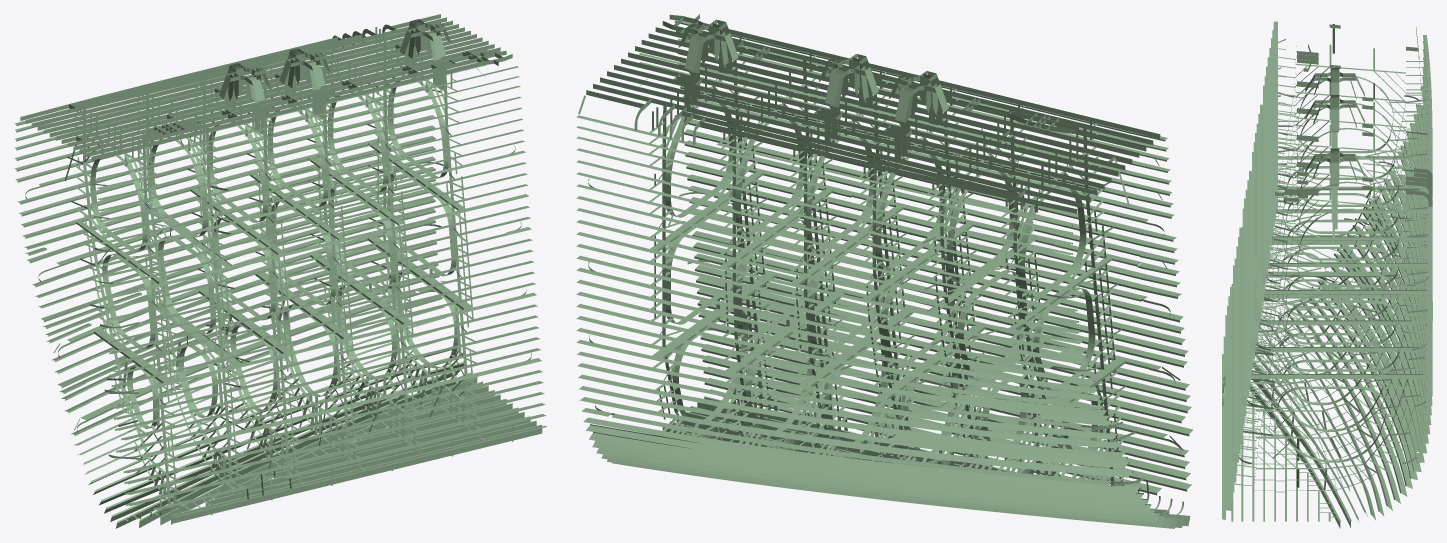
Rendered from NO_5_WING_CARGO_OIL_TK_PS.glb.
3 views of the same model, side by side, from view 1: azimuth 30°, elevation 25°; view 2: azimuth 150°, elevation 25°; view 3: azimuth 270°, elevation 25° (orthographic). The views are drawn at different scales.
Visible parts, largest first — view 1: no part large enough to name; view 2: ST_OuterShellxNo5SideTankPxL34xWeb_003004-IA_667.5x150x12.5x, ST_OuterShellxNo5SideTankPxL36xWeb_003004-IA_675.5x150x12.5x, ST_OuterShellxNo5SideTankPxL33xWeb_003004-TW_645x12.5+150x24, ST_OuterShellxNo5SideTankPxL32xWeb_001001-TW_595x12.5+150x31; view 3: ST_SideTransxFR58PxWeb_215002-TW_795x21+180x31_NVA_1993, ST_SideTransxFR56PxWeb_201002-TW_795x21+180x31_NVA_1993, ST_SideTransxFR57PxWeb_073002-TW_795x21+180x31_NVA_1993, ST_SideTransxFR58PxWeb_246002-TW_595x12.5+150x23_NVA_1993, ST_SideTransxFR58PxWeb_215001-TW_795x21+180x31_NVA_1993, ST_SideTransxFR57PxWeb_109002-TW_595x12.5+150x20_NVA_1993, ST_SideTransxFR57PxWeb_073001-TW_795x21+180x31_NVA_1993, ST_SideTransxFR56PxWeb_119002-TW_595x12.5+150x16_NVA_1993.
Part boxes in pixels (<box>): ST_OuterShellxNo5SideTankPxL34xWeb_003004-IA_667.5x150x12.5x: <box>992,475,1094,490</box>; ST_OuterShellxNo5SideTankPxL36xWeb_003004-IA_675.5x150x12.5x: <box>985,459,1087,473</box>; ST_OuterShellxNo5SideTankPxL33xWeb_003004-TW_645x12.5+150x24: <box>996,482,1097,497</box>; ST_OuterShellxNo5SideTankPxL32xWeb_001001-TW_595x12.5+150x31: <box>616,437,705,457</box>; ST_SideTransxFR58PxWeb_215002-TW_795x21+180x31_NVA_1993: <box>1332,348,1419,352</box>; ST_SideTransxFR56PxWeb_201002-TW_795x21+180x31_NVA_1993: <box>1317,294,1403,298</box>; ST_SideTransxFR57PxWeb_073002-TW_795x21+180x31_NVA_1993: <box>1332,321,1412,325</box>; ST_SideTransxFR58PxWeb_246002-TW_595x12.5+150x23_NVA_1993: <box>1332,264,1426,267</box>; ST_SideTransxFR58PxWeb_215001-TW_795x21+180x31_NVA_1993: <box>1255,348,1331,352</box>; ST_SideTransxFR57PxWeb_109002-TW_595x12.5+150x20_NVA_1993: <box>1332,237,1425,240</box>; ST_SideTransxFR57PxWeb_073001-TW_795x21+180x31_NVA_1993: <box>1259,321,1331,325</box>; ST_SideTransxFR56PxWeb_119002-TW_595x12.5+150x16_NVA_1993: <box>1337,210,1422,213</box>.
Size of the model in its own units: 36.98 by 31.5 by 17.38.
